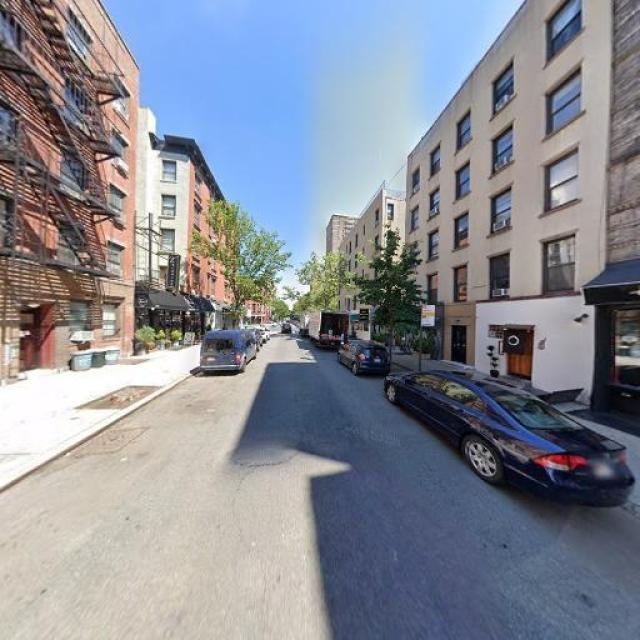Building: (407, 1, 604, 402), (1, 1, 132, 383), (612, 1, 640, 409)
